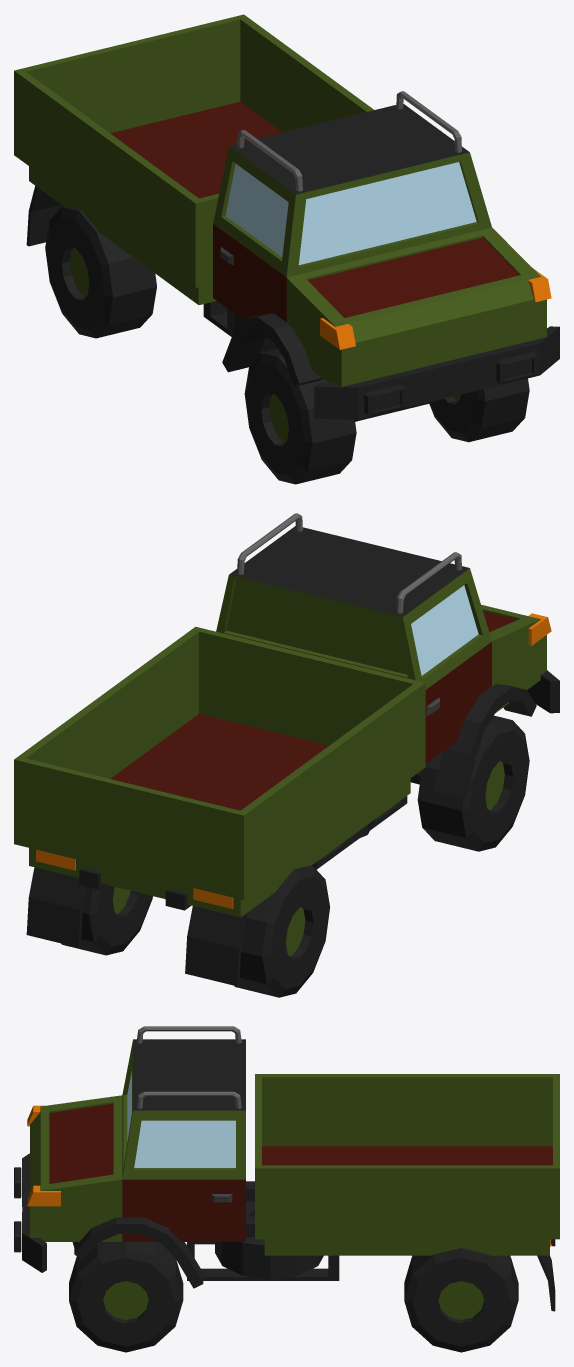
Rendered from truck.glb.
The picture shows the model from 3 angles, top to bottom: view 1: azimuth 30°, elevation 25°; view 2: azimuth 150°, elevation 25°; view 3: azimuth 270°, elevation 25°; orthographic projection. The views are drawn at different scales.
Visible parts, largest first — view 1: Scout_Car; view 2: Scout_Car; view 3: Scout_Car.
Part boxes in pixels (left/top/right/bottom): Scout_Car: left=14, top=14, right=559, bottom=484; Scout_Car: left=14, top=513, right=559, bottom=997; Scout_Car: left=14, top=1026, right=559, bottom=1352.
Size of the model in its own units: 1.94 by 2.23 by 4.43.
2 materials, 2 textured.
